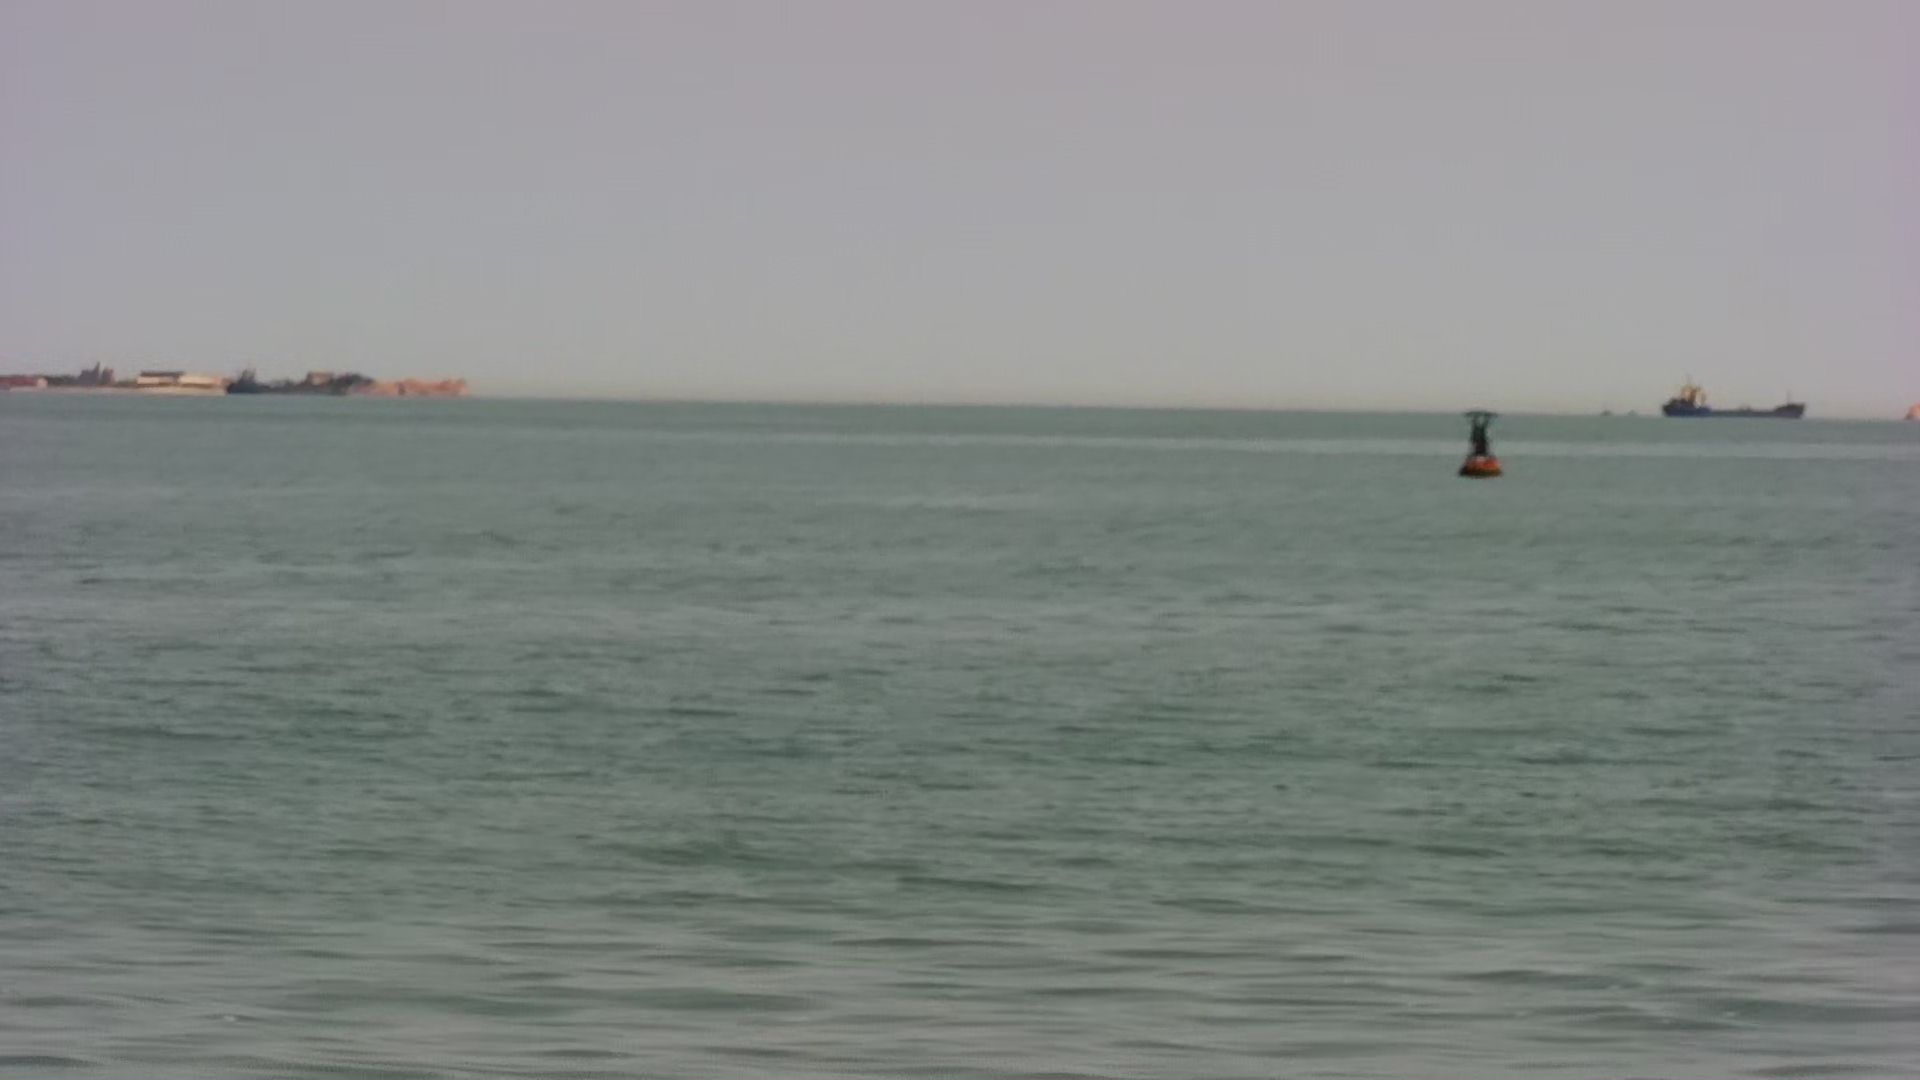buoy: (1451, 405, 1507, 483)
rock: (4, 360, 477, 400)
ship: (1656, 375, 1811, 422)
